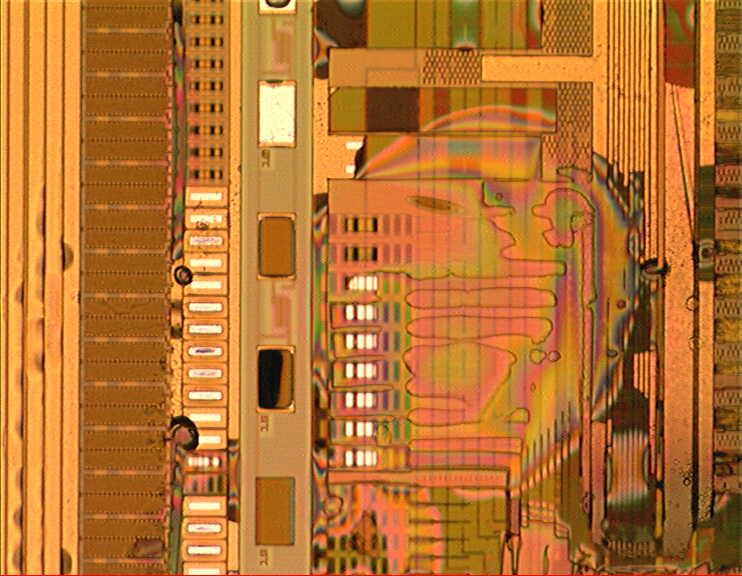COATING BAD: (124, 1, 703, 576)
